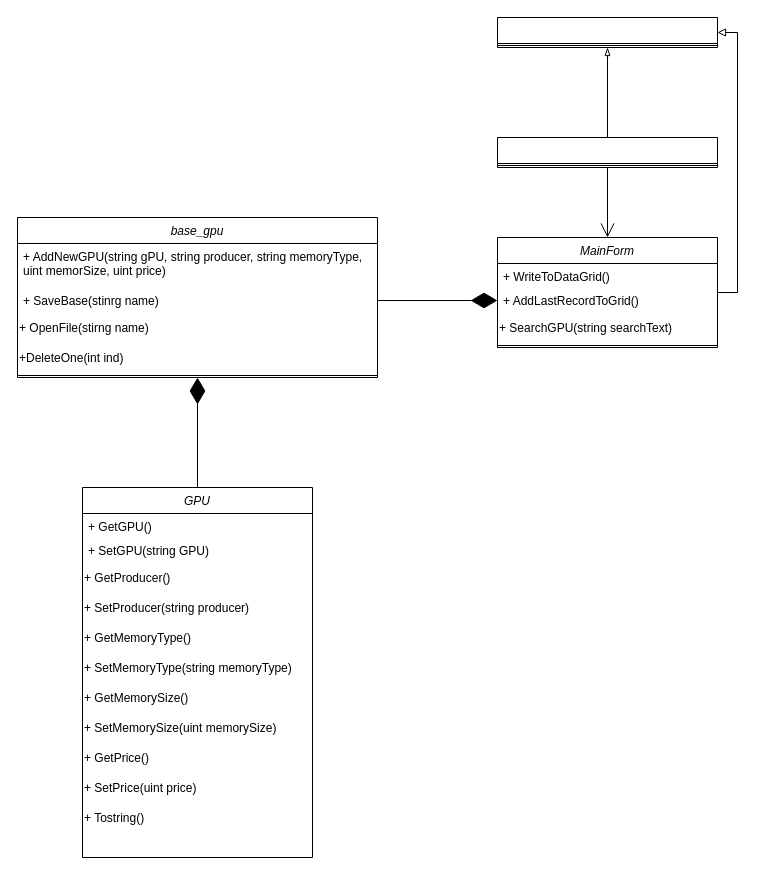
Some shapes in this 763 by 875 pixel diagram are drawn without their labels. The shapes that lost their labels are listed below. From the top down, each one's centre as x and y in pixels, then its label:
At pixel 607 32: "Form".
At pixel 607 152: "FormAddNewGPU".
